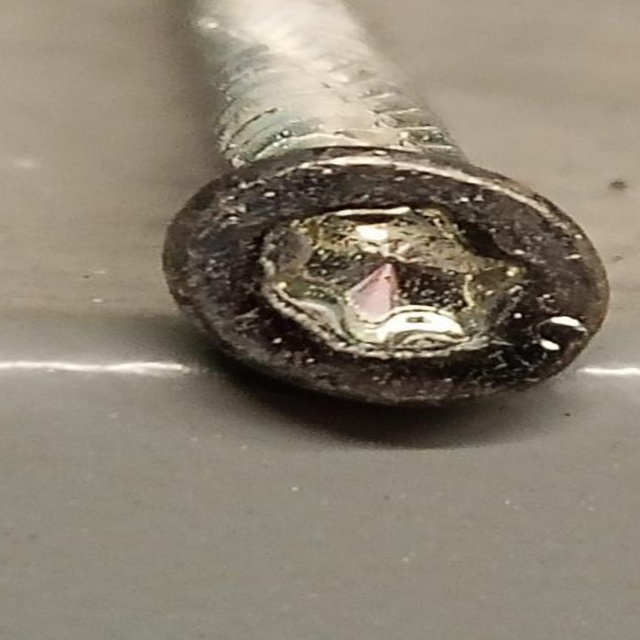torx: (145, 133, 626, 423)
